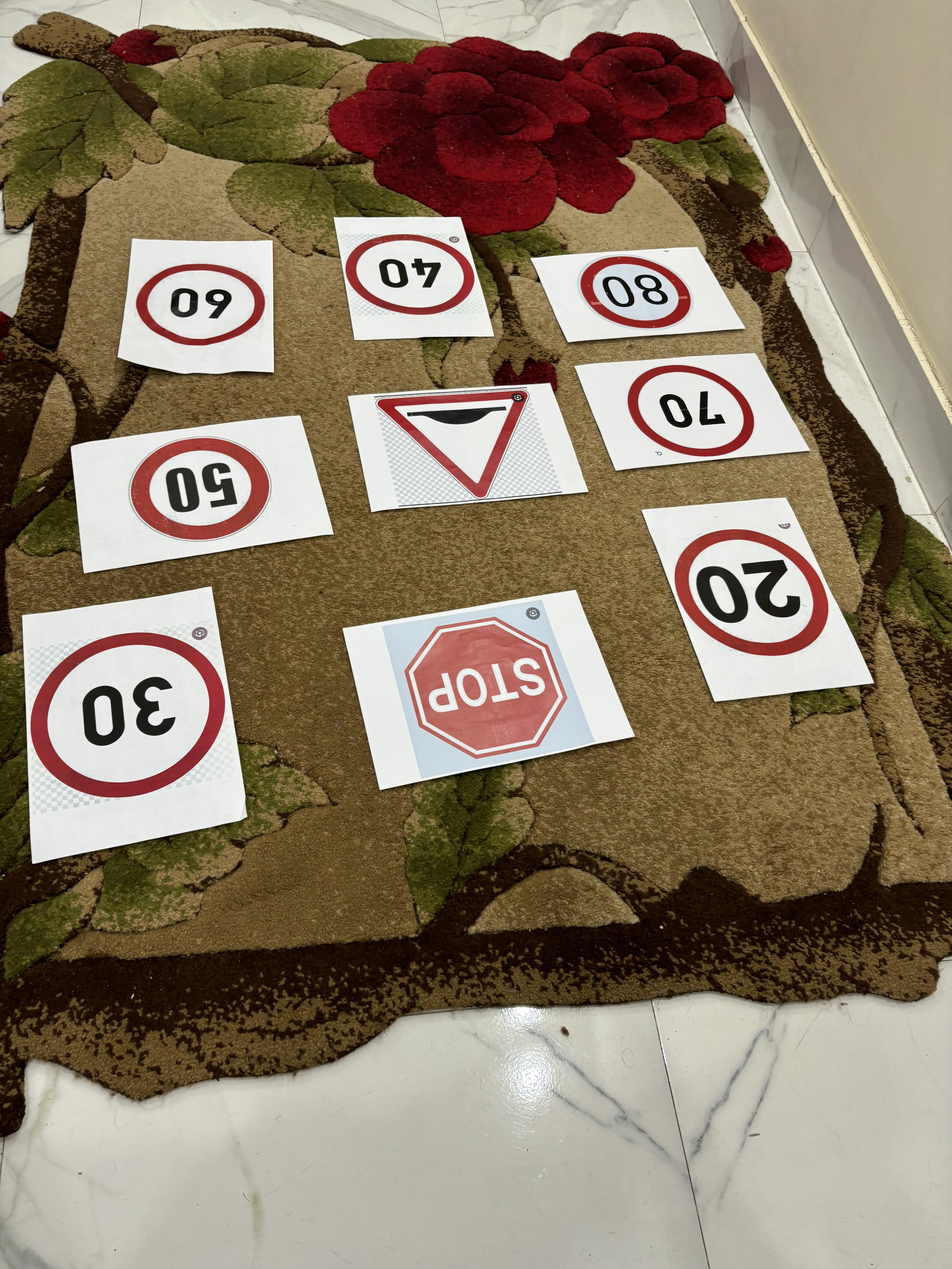20-Speed: (676, 525, 829, 661)
30-speed: (24, 618, 232, 803)
40-Speed: (346, 225, 474, 317)
50-Speed: (125, 434, 274, 548)
60-Speed: (134, 256, 272, 349)
70-Speed: (630, 367, 758, 451)
80-Speed: (584, 251, 694, 332)
Hump: (378, 385, 543, 499)
Stop: (404, 616, 565, 757)
